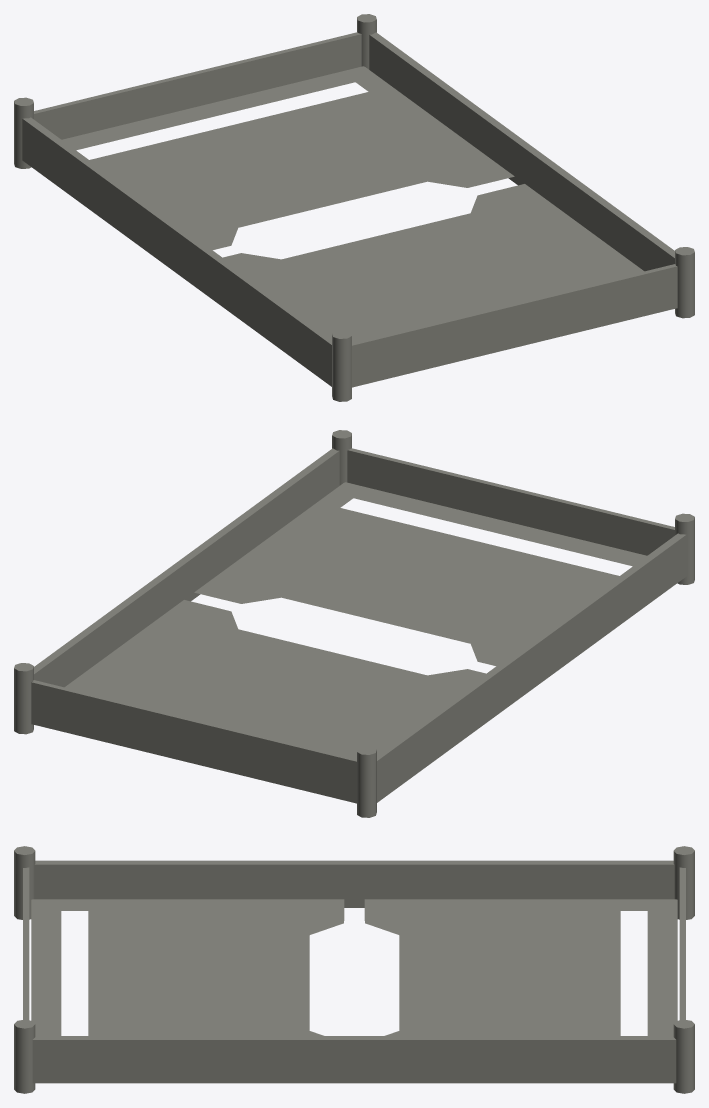
Rendered from metal_grid_abstract_long.fbx.
The picture shows the model from 3 angles, top to bottom: view 1: azimuth 30°, elevation 25°; view 2: azimuth 150°, elevation 25°; view 3: azimuth 270°, elevation 25°; orthographic projection. The views are drawn at different scales.
Parts seen in each view (by area): view 1: metal_grid_abstract_long; view 2: metal_grid_abstract_long; view 3: metal_grid_abstract_long.
Part boxes in pixels (x1,y1,x2,y2): metal_grid_abstract_long: (14,14,694,401); metal_grid_abstract_long: (14,430,694,817); metal_grid_abstract_long: (14,846,694,1093).
Bounding box in the file's own units: 174 × 28.92 × 274.
